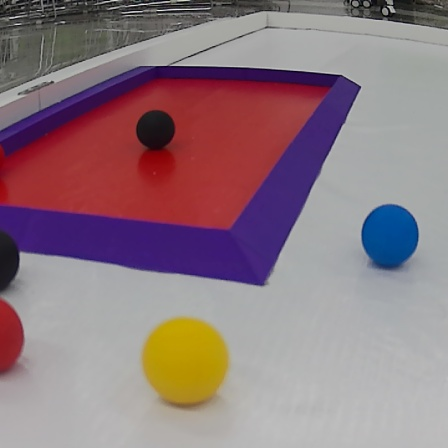black: (135, 105, 177, 150), (0, 229, 23, 292)
blue: (360, 202, 421, 271)
red: (0, 294, 28, 377)
red_aim: (0, 56, 362, 292)
yellow: (141, 314, 232, 408)
